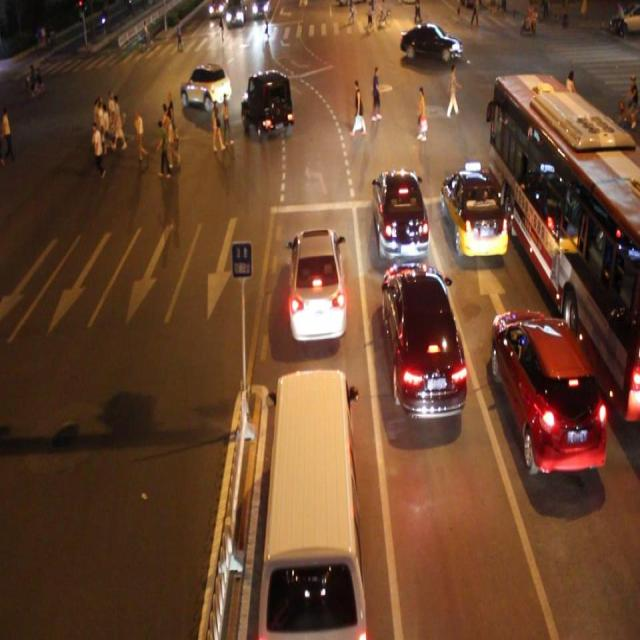car: (490, 308, 604, 471), (380, 262, 467, 415), (287, 226, 348, 341), (441, 170, 508, 260), (372, 167, 429, 264), (240, 70, 292, 134), (400, 20, 460, 64), (181, 64, 230, 108)
truck: (258, 367, 366, 640)
van: (491, 71, 640, 418)
